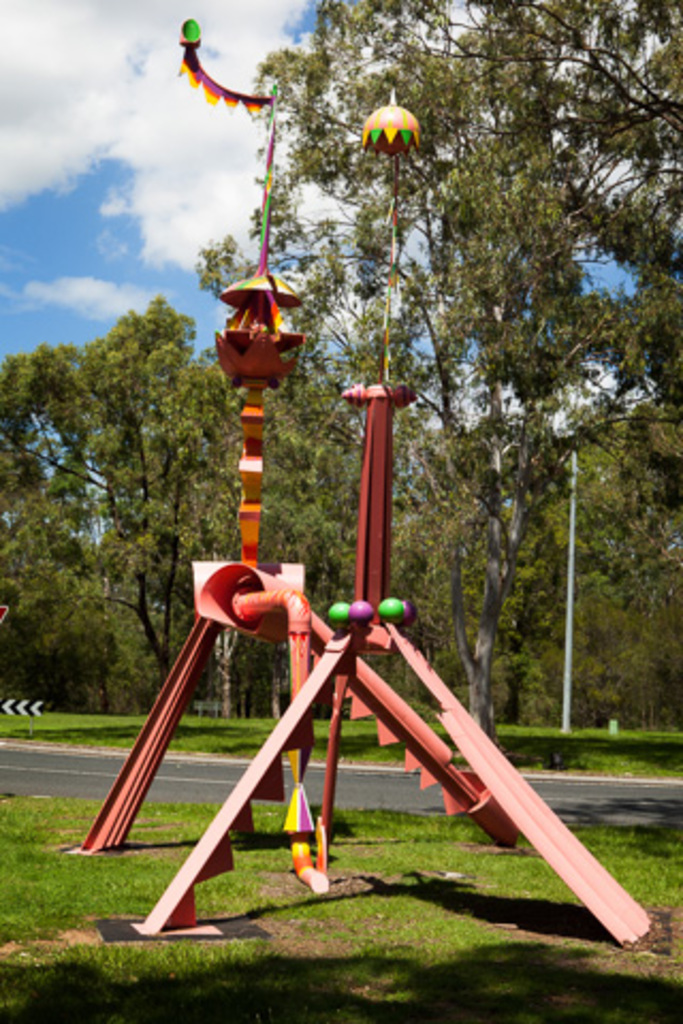Tree: (0, 0, 682, 750)
